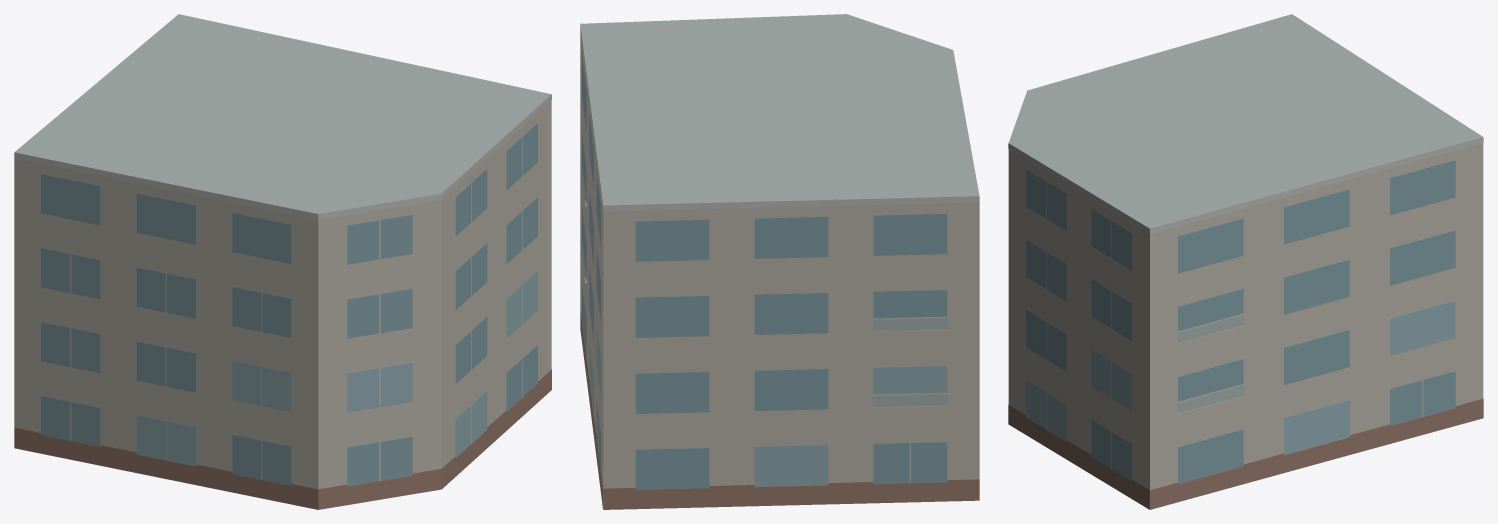
Rendered from survey-upis-32804260.glb.
3 renders of one model, left to right at view 1: azimuth 30°, elevation 25°; view 2: azimuth 150°, elevation 25°; view 3: azimuth 270°, elevation 25°, orthographic. The views are drawn at different scales.
Parts seen in each view (by area): view 1: survey-upis-32804260.tmp; view 2: survey-upis-32804260.tmp; view 3: survey-upis-32804260.tmp.
Boxes of the visible parts, x1=… form: survey-upis-32804260.tmp: x1=14, y1=14, x2=551, y2=509; survey-upis-32804260.tmp: x1=580, y1=14, x2=979, y2=509; survey-upis-32804260.tmp: x1=1008, y1=14, x2=1483, y2=509.
Size of the model in its own units: 19.49 by 11.9 by 18.22.
